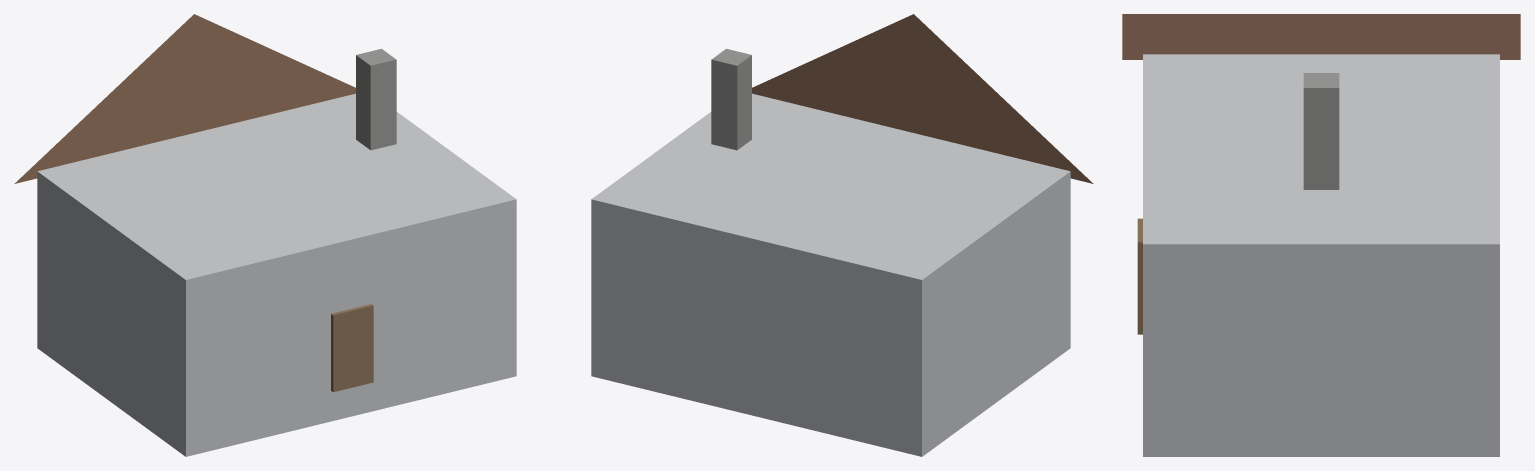
Rendered from house_3.glb.
The picture shows the model from 3 angles, left to right: view 1: azimuth 30°, elevation 25°; view 2: azimuth 150°, elevation 25°; view 3: azimuth 270°, elevation 25°; orthographic projection. The views are drawn at different scales.
Size of the model in its own units: 9.8 by 7.48 by 7.8.
